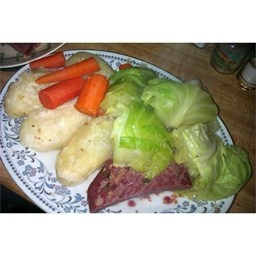background: (1, 19, 101, 85)
